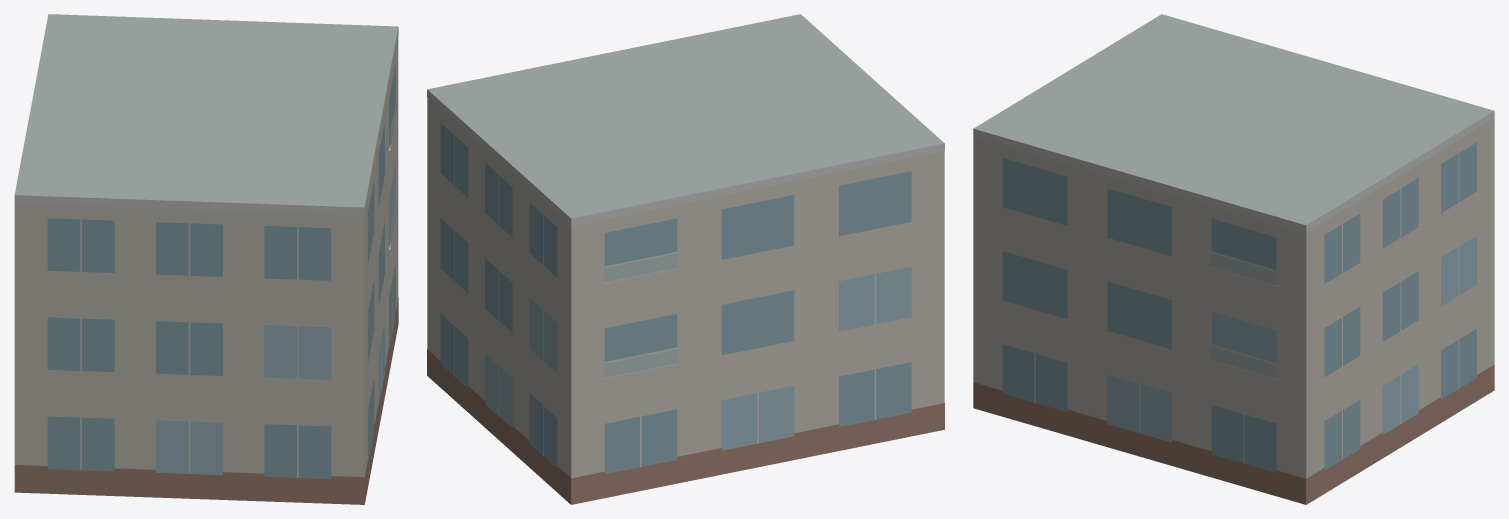
The model's file is survey-upis-32822386.glb.
The picture shows the model from 3 angles, left to right: view 1: azimuth 30°, elevation 25°; view 2: azimuth 150°, elevation 25°; view 3: azimuth 270°, elevation 25°; orthographic projection. The views are drawn at different scales.
Parts seen in each view (by area): view 1: survey-upis-32822386.tmp; view 2: survey-upis-32822386.tmp; view 3: survey-upis-32822386.tmp.
Part boxes in pixels (box(x1,y1,x2,y2)): survey-upis-32822386.tmp: box(14, 14, 398, 504); survey-upis-32822386.tmp: box(427, 14, 944, 504); survey-upis-32822386.tmp: box(973, 14, 1494, 504).
Bounding box in the file's own units: 14.85 × 9.15 × 15.47.
